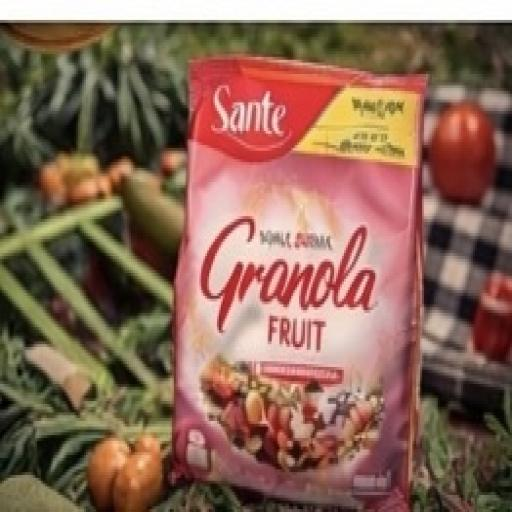granola: (141, 45, 473, 503)
